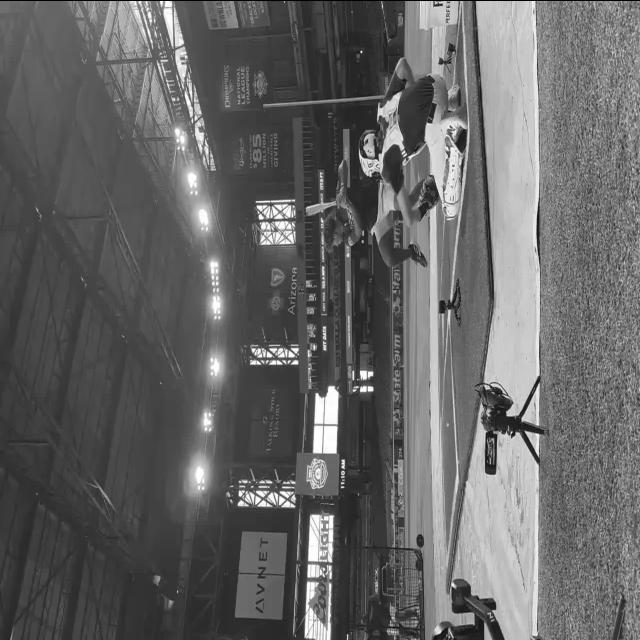baseball_glove: (418, 175, 440, 217)
bat: (304, 195, 338, 215)
shoe: (441, 127, 466, 220), (446, 124, 466, 156), (408, 242, 427, 268), (447, 84, 460, 110)
